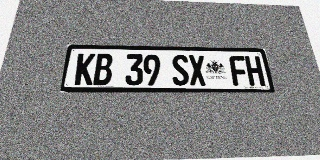3: (125, 54, 143, 85)
9: (143, 54, 160, 86)
B: (93, 53, 113, 85)
F: (229, 56, 249, 86)
H: (244, 56, 265, 86)
K: (74, 53, 95, 85)
S: (172, 55, 190, 86)
X: (188, 55, 207, 86)
